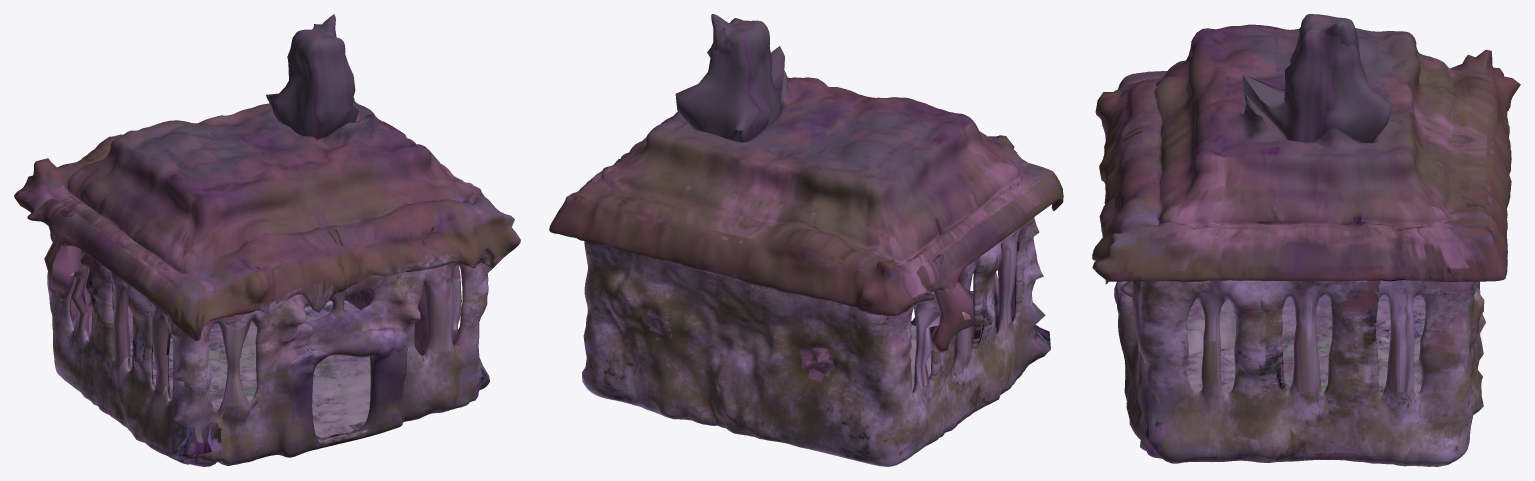
File: Snowy's house.fbx
The picture shows the model from 3 angles, left to right: view 1: azimuth 30°, elevation 25°; view 2: azimuth 150°, elevation 25°; view 3: azimuth 270°, elevation 25°; orthographic projection. The views are drawn at different scales.
Parts seen in each view (by area): view 1: house; view 2: house; view 3: house.
Boxes of the visible parts, x1,y1,x2,y2 form: house: [14, 14, 520, 466]; house: [549, 14, 1063, 466]; house: [1092, 14, 1520, 466].
Size of the model in its own units: 1367 by 1271 by 1219.
1 material, 1 textured.
